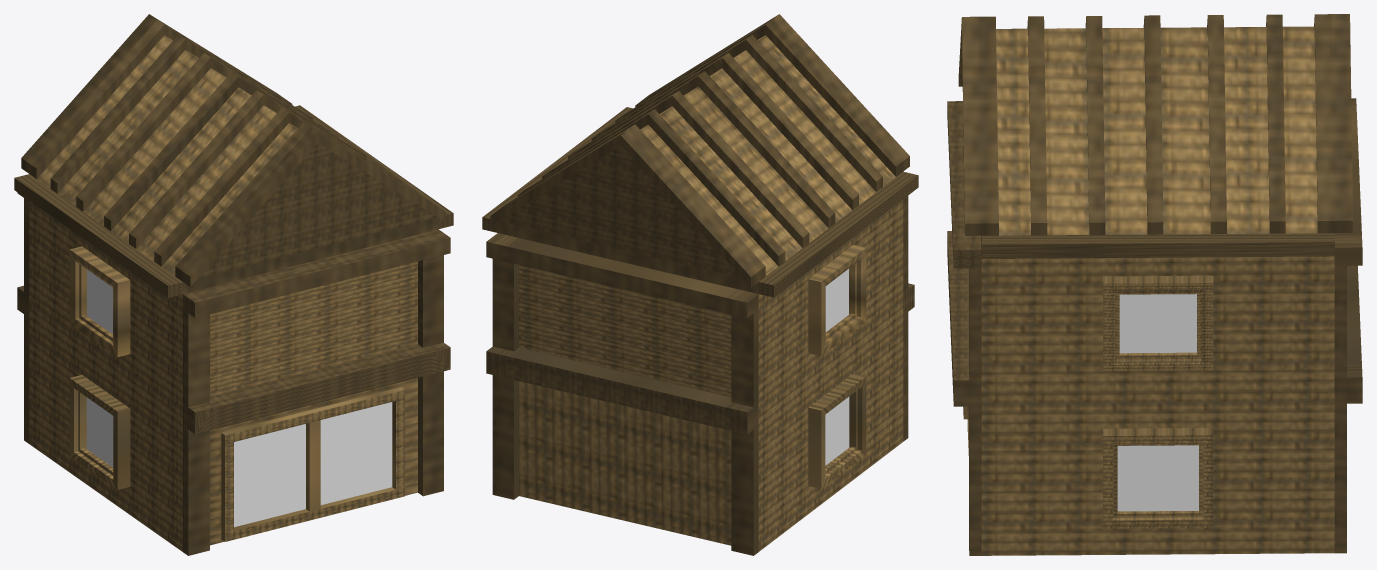
The model's file is textureed_house.fbx.
3 renders of one model, left to right at view 1: azimuth 30°, elevation 25°; view 2: azimuth 150°, elevation 25°; view 3: azimuth 270°, elevation 25°, orthographic. The views are drawn at different scales.
Parts seen in each view (by area): view 1: pCube1; view 2: pCube1; view 3: pCube1.
Part boxes in pixels (bbox=[...]): pCube1: bbox=[14, 14, 453, 555]; pCube1: bbox=[482, 14, 918, 555]; pCube1: bbox=[947, 14, 1362, 555].
Bounding box in the file's own units: 23.06 × 29.47 × 23.86.
